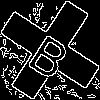B: (25, 25, 78, 82)
